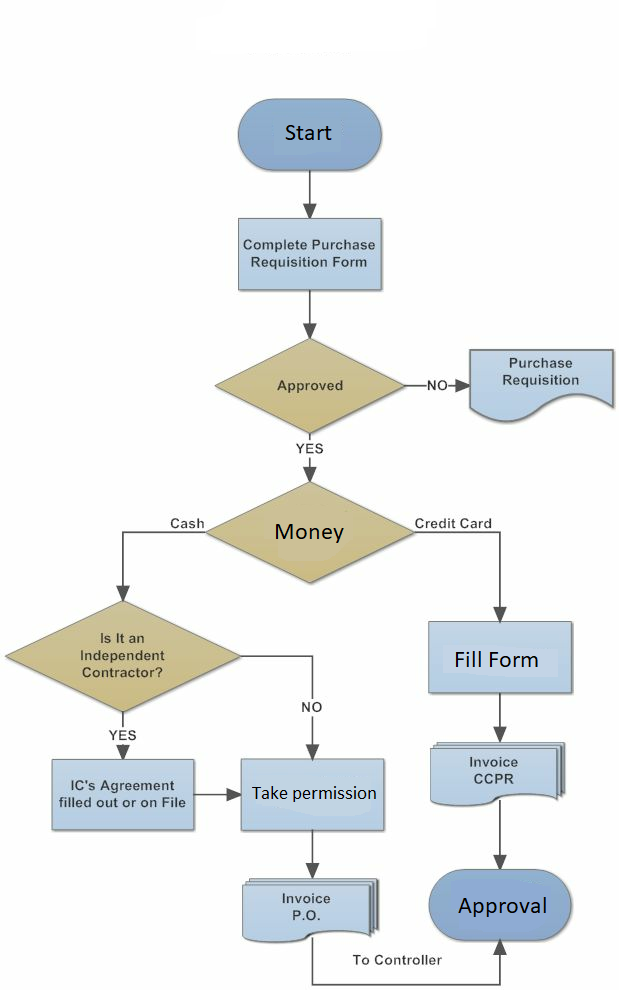arrow: (308, 933, 510, 990), (234, 650, 322, 759), (414, 525, 513, 619), (114, 524, 204, 610), (491, 797, 510, 866), (110, 715, 134, 760), (490, 697, 510, 747), (411, 378, 472, 394), (299, 171, 319, 216), (302, 433, 320, 481), (199, 787, 249, 804), (305, 834, 322, 878), (301, 292, 317, 337)
decision: (4, 600, 240, 710), (205, 481, 416, 584), (214, 336, 408, 433)
process: (466, 348, 616, 427), (241, 753, 387, 834), (234, 216, 385, 294), (428, 618, 575, 694), (52, 759, 198, 834), (241, 875, 382, 944), (425, 740, 569, 807)
terminator: (234, 95, 385, 174), (428, 871, 573, 944)
text: (57, 772, 191, 816), (76, 627, 167, 686), (240, 236, 379, 271), (248, 780, 379, 806), (501, 354, 584, 390), (457, 895, 554, 922), (269, 515, 348, 545), (448, 648, 541, 672), (275, 890, 335, 922), (349, 951, 448, 968), (464, 756, 523, 783), (272, 378, 351, 397), (282, 122, 337, 145), (413, 515, 496, 530), (107, 725, 140, 744), (422, 375, 454, 393), (167, 516, 208, 530), (293, 439, 325, 456), (296, 698, 325, 715)
